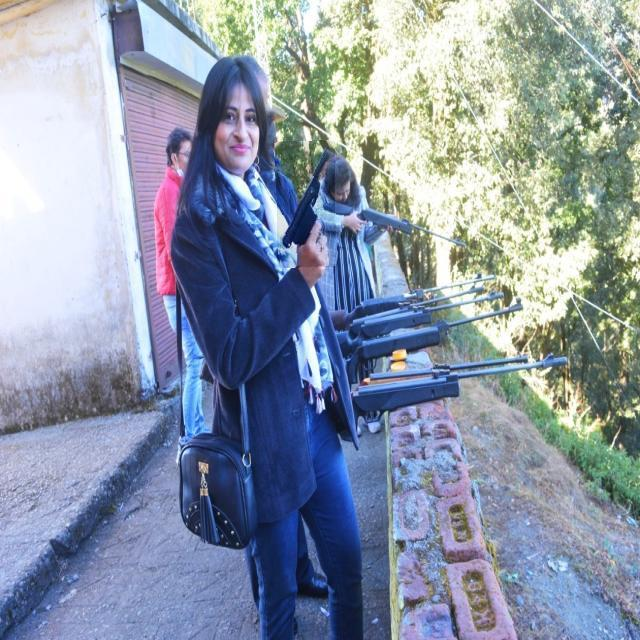handgun: (276, 140, 336, 268)
